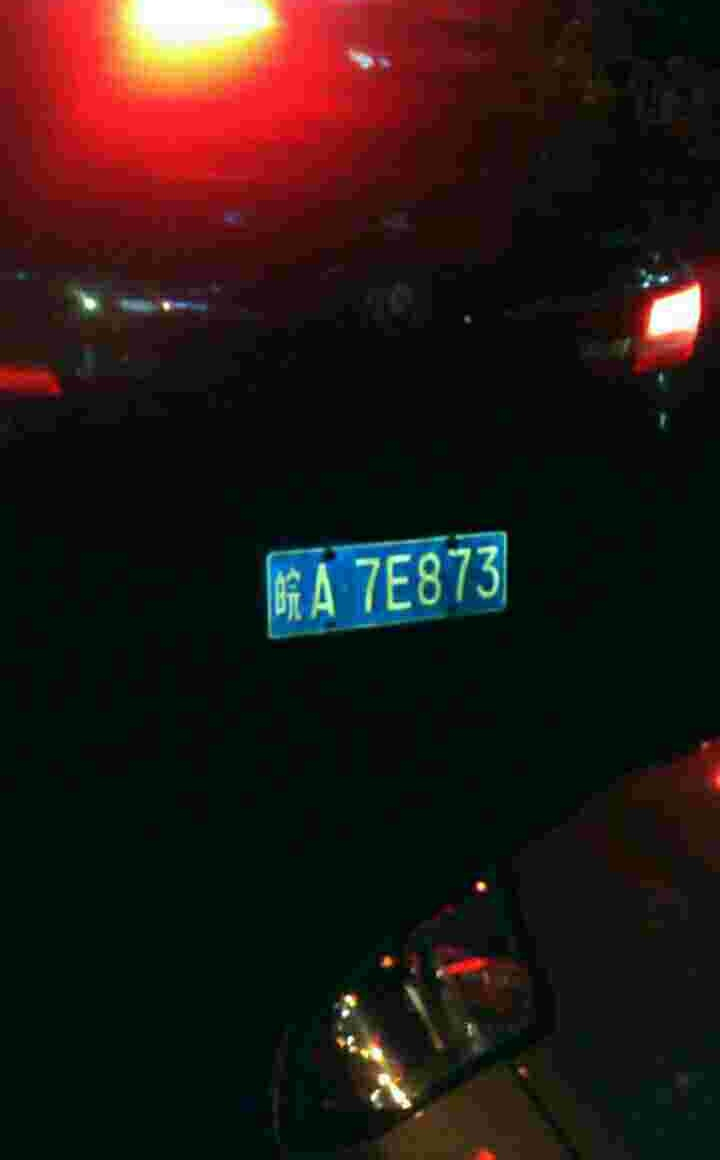license_plate: (269, 535, 522, 647)
